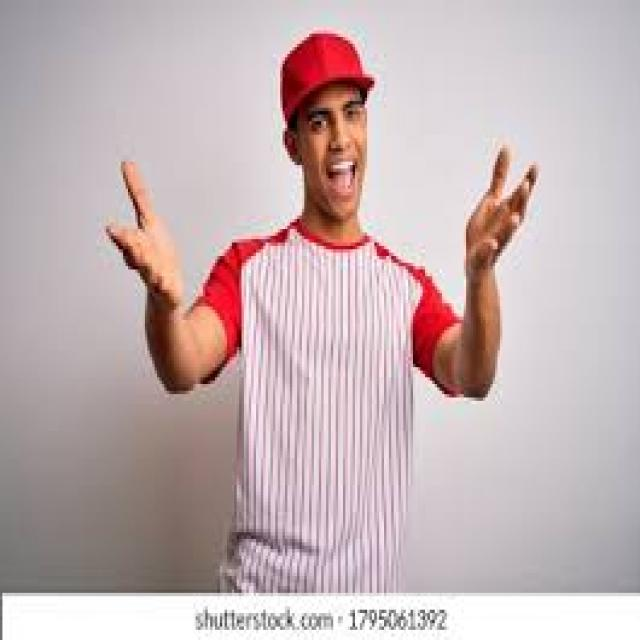hat: (276, 18, 376, 126)
